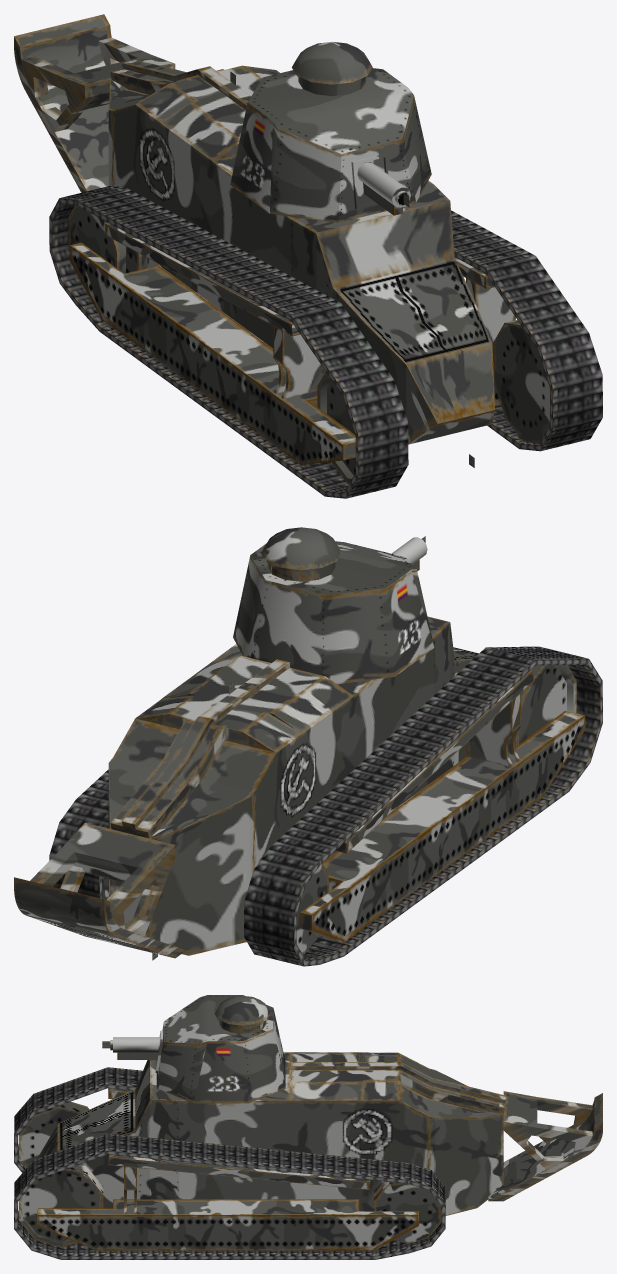
The model's file is esrRFT17.dae.
3 views of the same model, one above another, from view 1: azimuth 30°, elevation 25°; view 2: azimuth 150°, elevation 25°; view 3: azimuth 270°, elevation 25° (orthographic). The views are drawn at different scales.
Visible parts, largest first — view 1: base, tracks2, turret, frontwheel, rearwheel, barrel; view 2: base, tracks2, turret, frontwheel, rearwheel, barrel; view 3: base, tracks2, turret, frontwheel, rearwheel, barrel.
Boxes of the visible parts, <box> form: base: <box>14,14,515,464</box>; tracks2: <box>49,186,602,498</box>; turret: <box>230,41,431,222</box>; frontwheel: <box>317,320,549,484</box>; rearwheel: <box>68,205,147,275</box>; barrel: <box>357,162,410,215</box>; base: <box>14,616,585,958</box>; tracks2: <box>49,646,602,966</box>; turret: <box>233,527,434,684</box>; frontwheel: <box>515,665,576,746</box>; rearwheel: <box>102,863,328,954</box>; barrel: <box>392,537,427,570</box>; base: <box>37,1052,602,1250</box>; tracks2: <box>14,1067,445,1259</box>; turret: <box>155,995,285,1103</box>; frontwheel: <box>18,1101,103,1247</box>; rearwheel: <box>374,1181,441,1243</box>; barrel: <box>110,1037,160,1059</box>.
Bounding box in the file's own units: 18.17 × 54.28 × 22.82.
